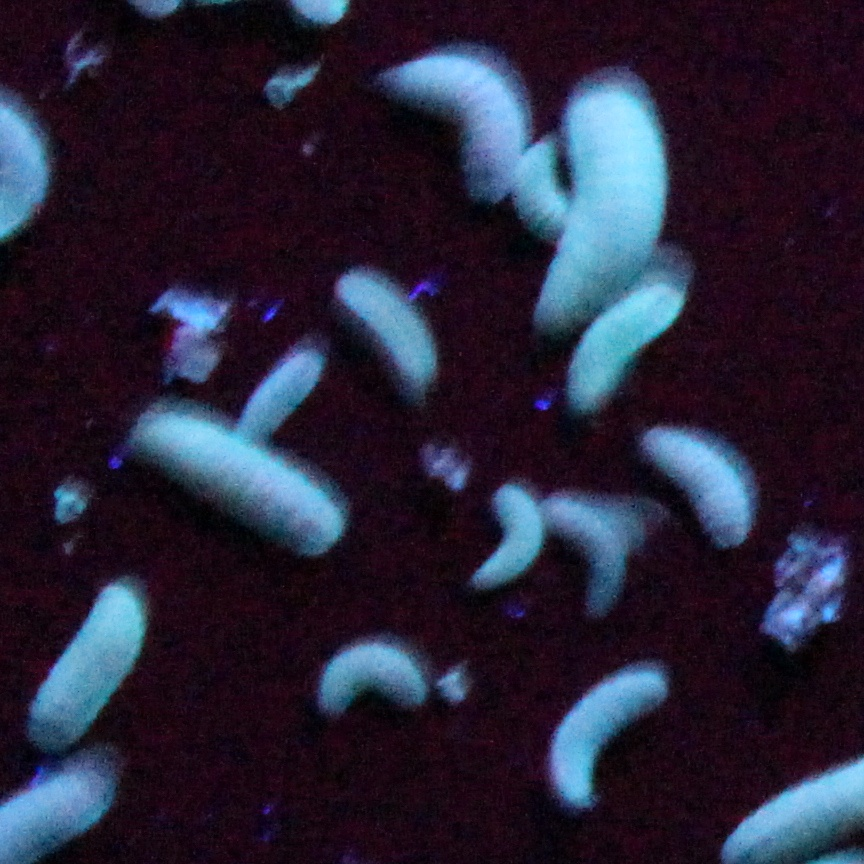larve: (536, 87, 666, 323), (139, 417, 342, 557), (395, 57, 525, 198), (30, 585, 144, 741), (553, 670, 666, 806), (574, 279, 683, 404), (643, 426, 750, 546), (337, 276, 435, 384), (539, 499, 622, 609), (319, 644, 427, 715), (236, 353, 321, 442), (476, 483, 542, 588), (513, 142, 566, 235)
